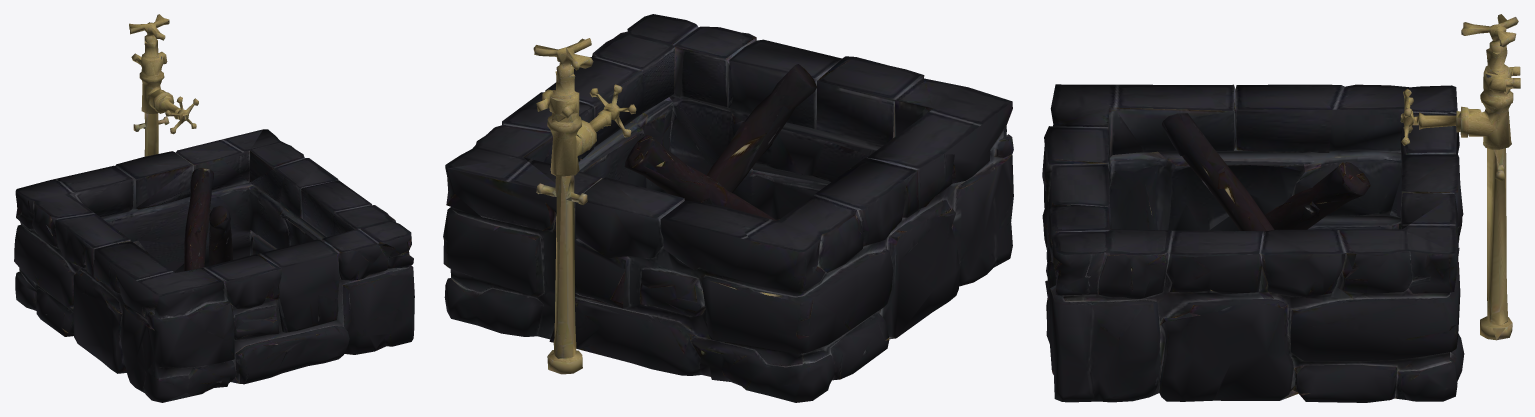
Rendered from la_fire_pit.glb.
3 renders of one model, left to right at view 1: azimuth 30°, elevation 25°; view 2: azimuth 150°, elevation 25°; view 3: azimuth 270°, elevation 25°, orthographic. The views are drawn at different scales.
Visible parts, largest first — view 1: la_fire_pit; view 2: la_fire_pit; view 3: la_fire_pit.
Part boxes in pixels (x1,y1,x2,y2): la_fire_pit: [14, 14, 414, 402]; la_fire_pit: [443, 14, 1013, 402]; la_fire_pit: [1042, 14, 1520, 402].
Bounding box in the file's own units: 2.27 × 1.86 × 2.6.
1 material, 1 textured.
